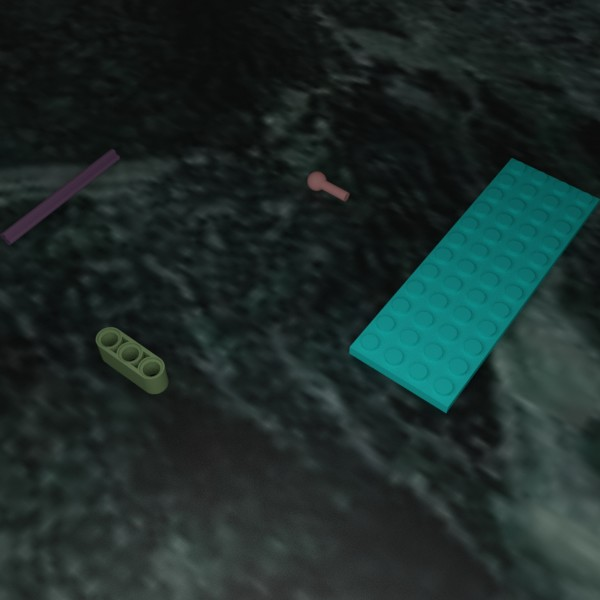lego: (349, 157, 600, 413), (0, 148, 119, 245), (95, 327, 168, 394), (307, 171, 349, 201)
